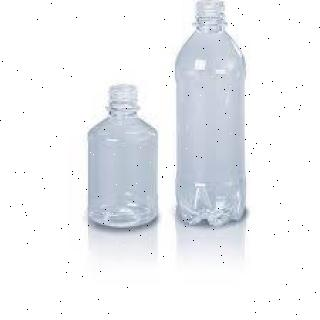Plastic-bottle: (173, 1, 250, 230), (85, 82, 162, 233)
